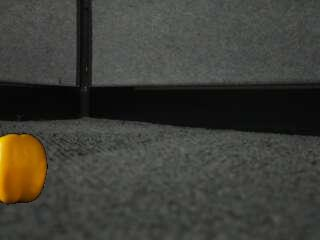Capsicum: (0, 133, 48, 205)
